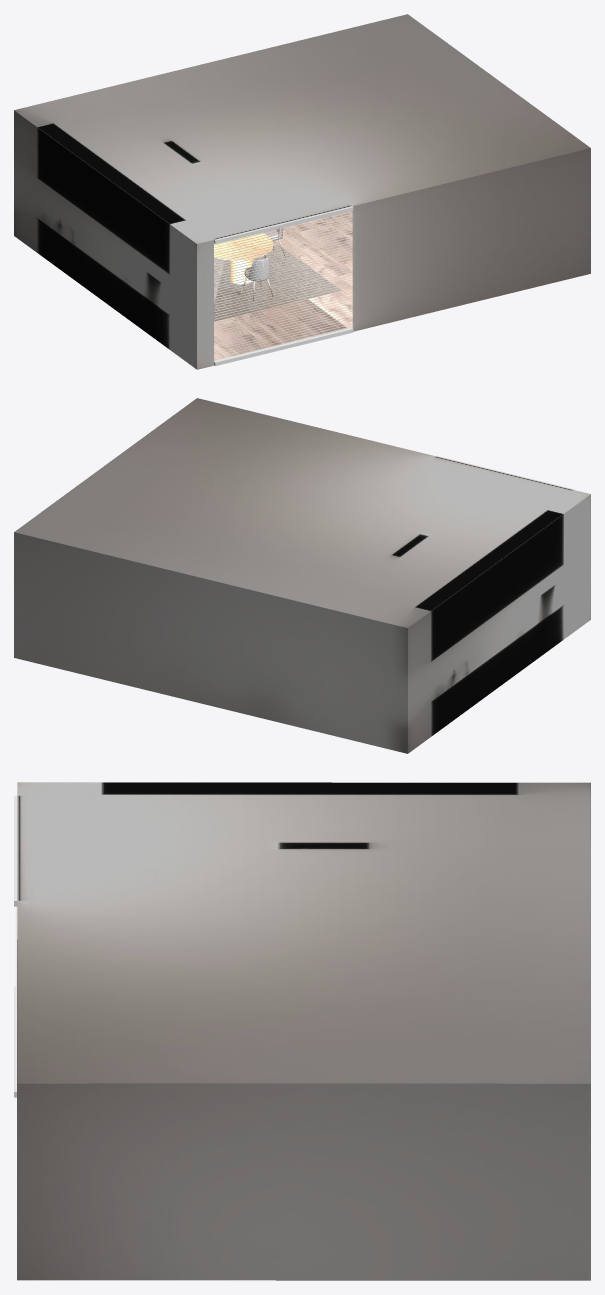
File: Neutral Scene.fbx
3 renders of one model, top to bottom at view 1: azimuth 30°, elevation 25°; view 2: azimuth 150°, elevation 25°; view 3: azimuth 270°, elevation 25°, orthographic. The views are drawn at different scales.
Parts seen in each view (by area): view 1: house_Material_009_0_2, window_Material_016_0_2, floor_floor_0_2, carpet_Carpet__0_2, table_Material5_001_0_2, seat_Material5_0_2.008; view 2: house_Material_009_0_2; view 3: house_Material_009_0_2, window_Material_016_0_2.
Boxes of the visible parts, box(x1,y1,x2,y2) form: house_Material_009_0_2: box(14, 14, 590, 369); window_Material_016_0_2: box(214, 206, 353, 365); floor_floor_0_2: box(214, 211, 352, 360); carpet_Carpet__0_2: box(214, 241, 341, 321); table_Material5_001_0_2: box(214, 232, 273, 284); seat_Material5_0_2.008: box(240, 256, 273, 301); house_Material_009_0_2: box(14, 398, 590, 753); house_Material_009_0_2: box(17, 782, 590, 1280); window_Material_016_0_2: box(14, 795, 17, 1097).
Size of the model in its own units: 984 by 300 by 797.
26 materials, 24 textured.
